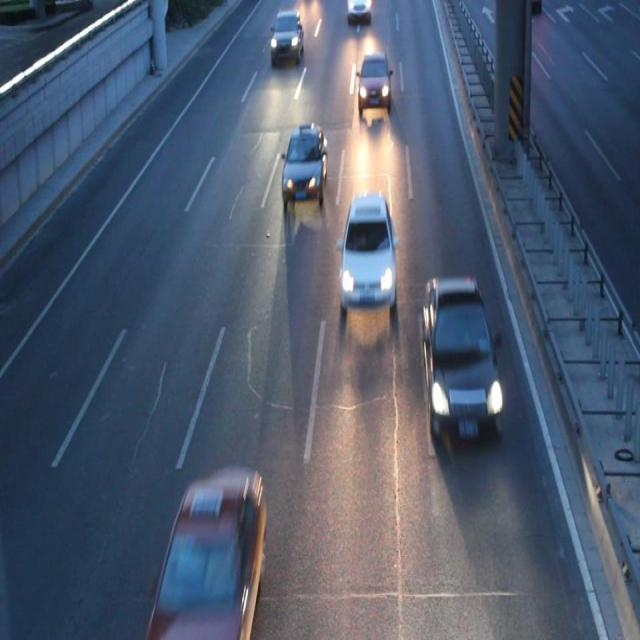car: (148, 468, 265, 640), (417, 277, 501, 441), (338, 193, 396, 317), (282, 125, 327, 208), (356, 55, 392, 116), (269, 11, 303, 64)
